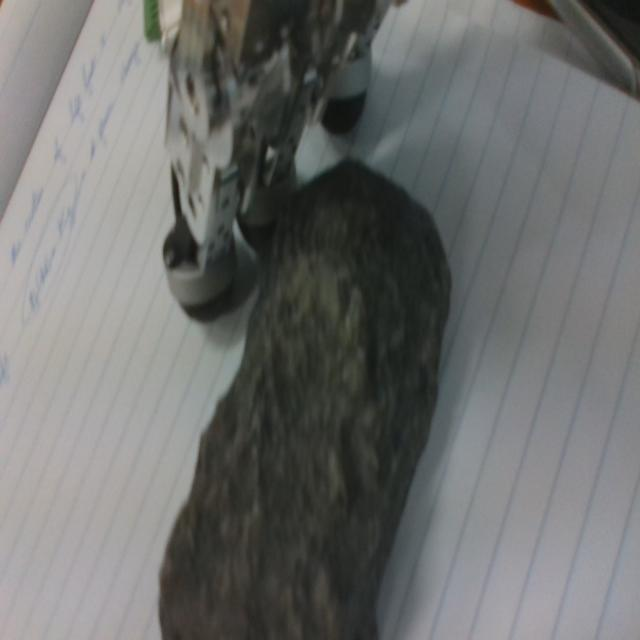stone: (159, 155, 451, 640)
